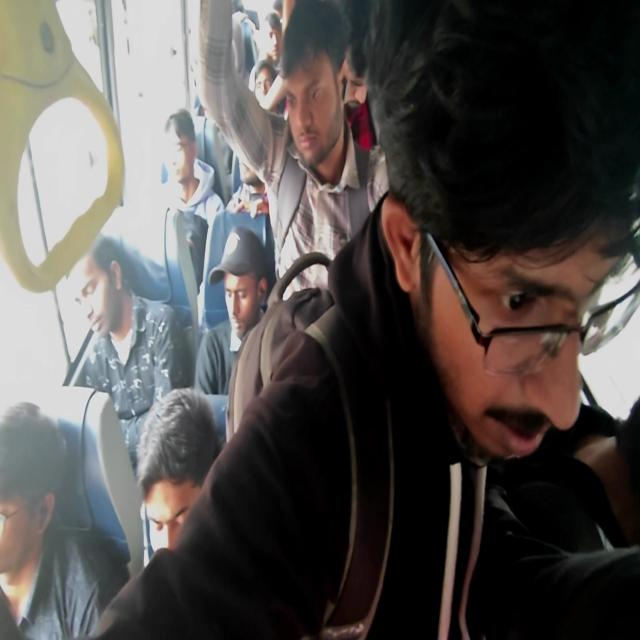person: (85, 2, 639, 637), (197, 0, 390, 296), (466, 395, 639, 639), (0, 400, 130, 638), (77, 235, 179, 473), (134, 385, 222, 562), (193, 224, 270, 395), (163, 108, 225, 226)
